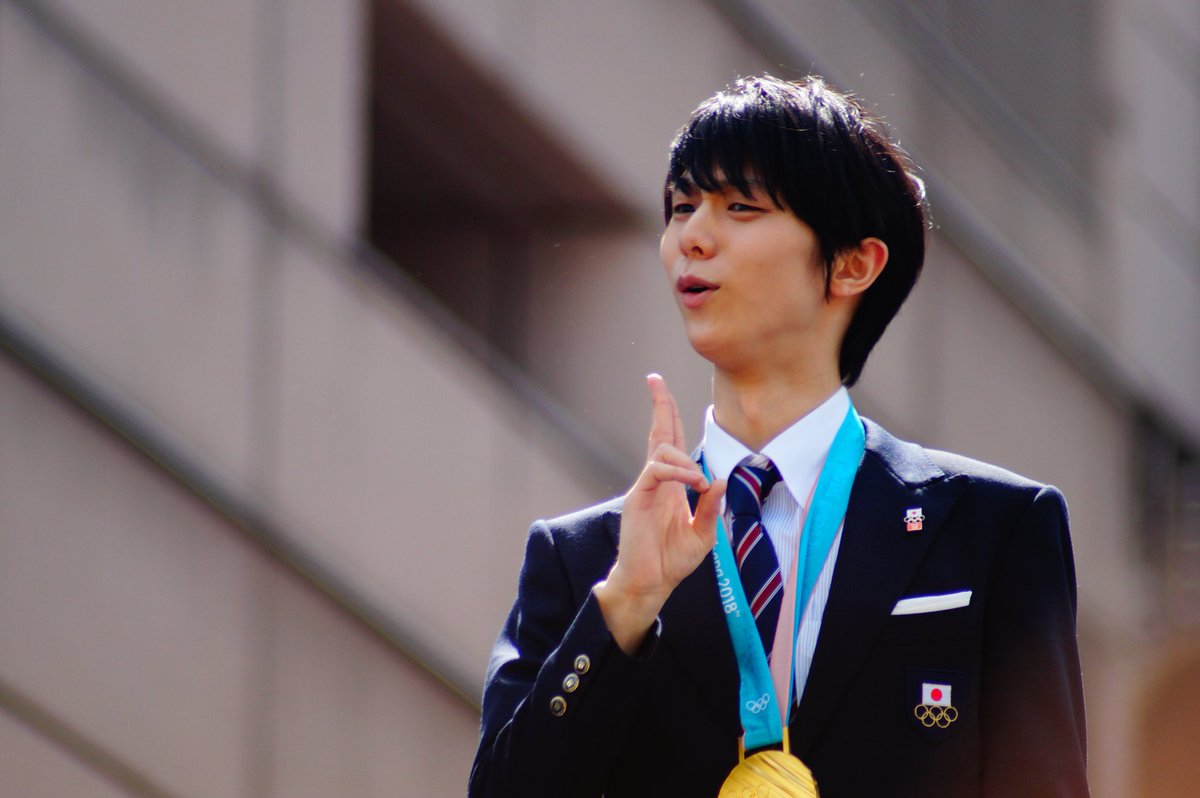face: (659, 163, 889, 365)
hand: (590, 366, 724, 620)
